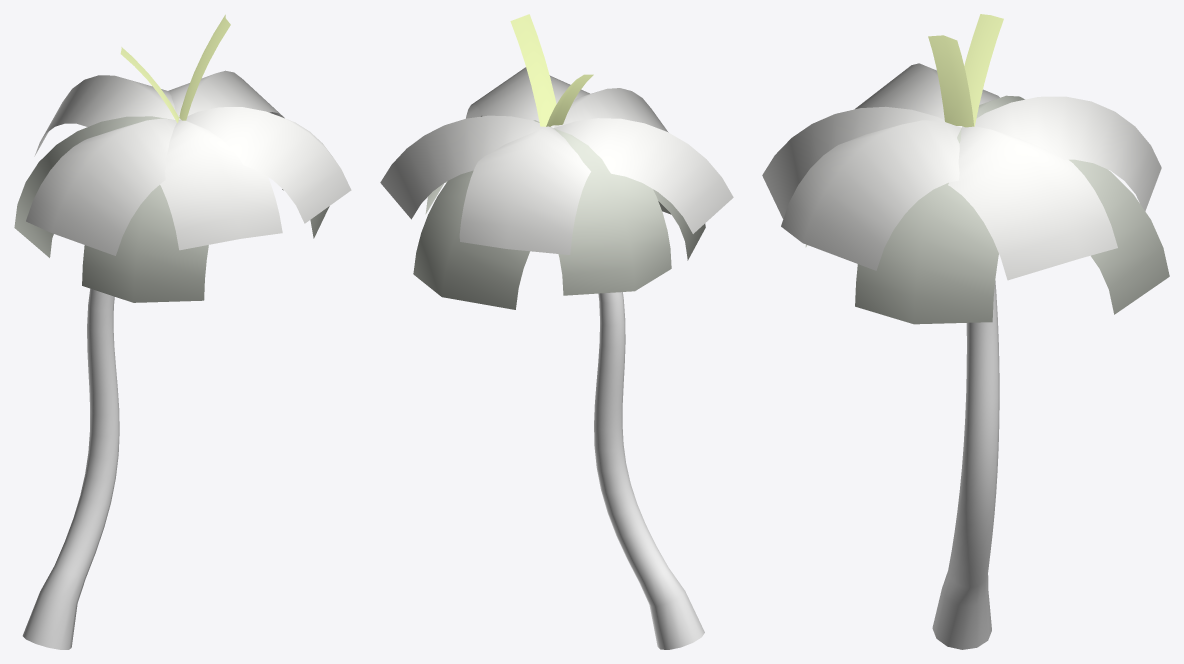
File: plant_palm_b.glb
The picture shows the model from 3 angles, left to right: view 1: azimuth 30°, elevation 25°; view 2: azimuth 150°, elevation 25°; view 3: azimuth 270°, elevation 25°; orthographic projection. The views are drawn at different scales.
Parts seen in each view (by area): view 1: plant_palm_2; view 2: plant_palm_2; view 3: plant_palm_2.
Boxes of the visible parts, x1,y1,x2,y2 form: plant_palm_2: [14, 14, 351, 649]; plant_palm_2: [380, 14, 733, 649]; plant_palm_2: [762, 14, 1169, 649].
Bounding box in the file's own units: 5.55 × 10.86 × 5.73.
